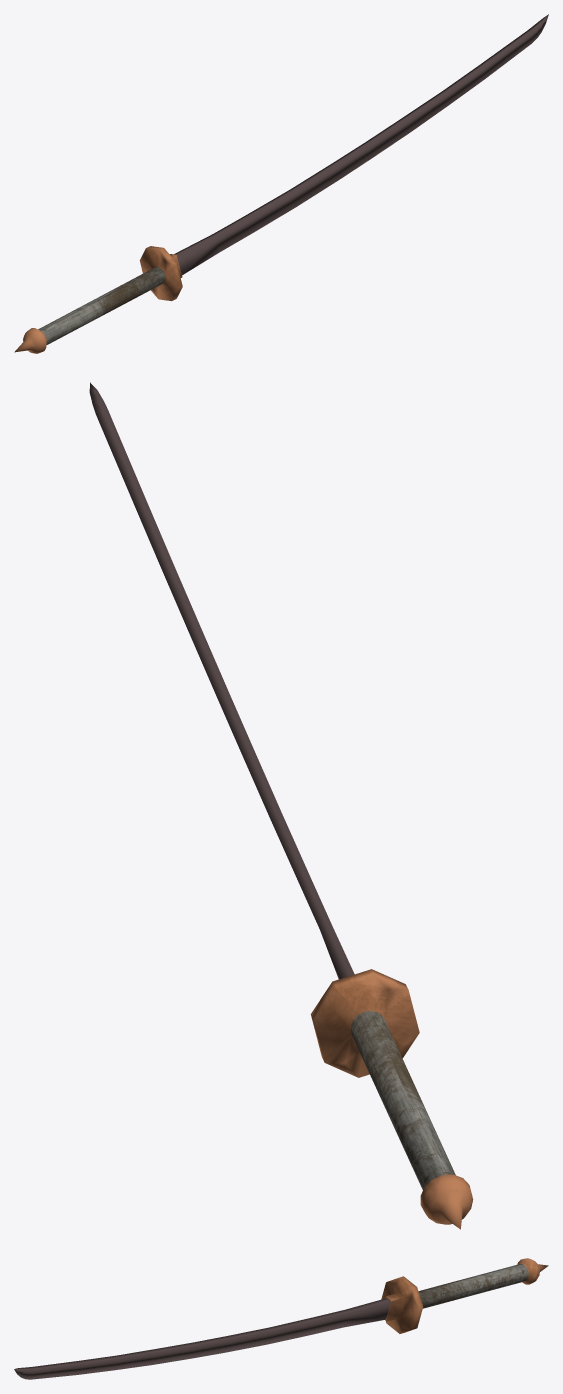
The model's file is Anim_idle_katana_objetos.0037.obj.
3 views of the same model, one above another, from view 1: azimuth 90°, elevation 25°; view 2: azimuth 150°, elevation 25°; view 3: azimuth 270°, elevation 25° (orthographic). The views are drawn at different scales.
Visible parts, largest first — view 1: Katana1; view 2: Katana1; view 3: Katana1.
Part boxes in pixels (left/top/right/bottom): Katana1: left=14, top=14, right=548, bottom=353; Katana1: left=89, top=382, right=473, bottom=1229; Katana1: left=14, top=1258, right=548, bottom=1379.
Size of the model in its own units: 3.69 by 0.9833 by 3.78.
